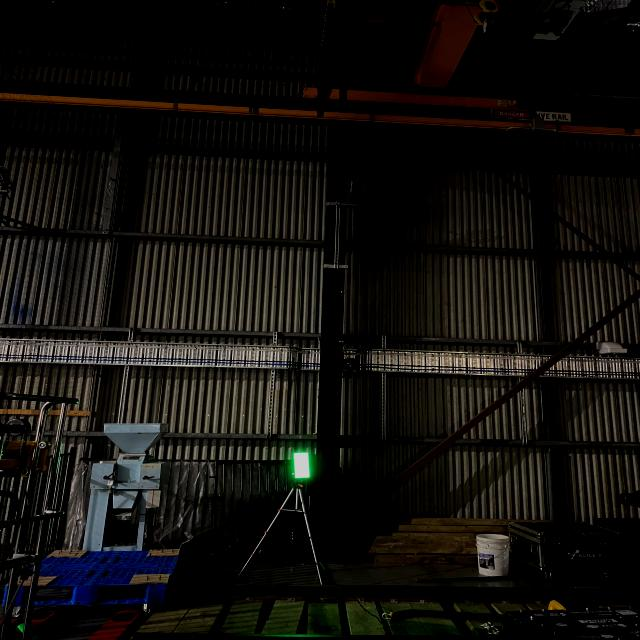matrix: (284, 449, 318, 486)
